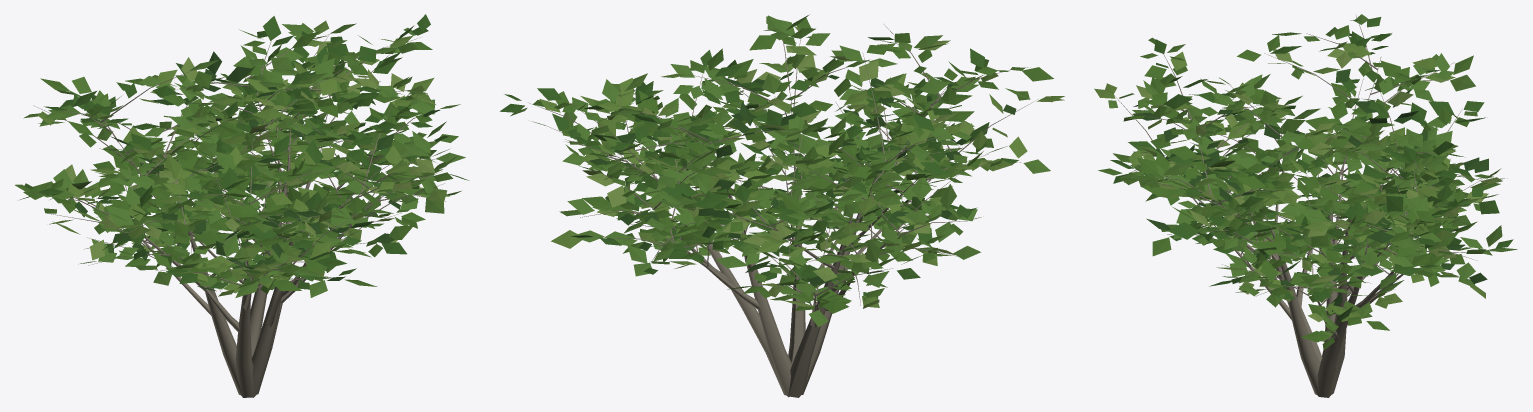
File: shrub_02.glb
3 views of the same model, side by side, from view 1: azimuth 30°, elevation 25°; view 2: azimuth 150°, elevation 25°; view 3: azimuth 270°, elevation 25° (orthographic). The views are drawn at different scales.
Visible parts, largest first — view 1: Shrub_02_foliage, Shrub_02_stems; view 2: Shrub_02_foliage, Shrub_02_stems; view 3: Shrub_02_foliage, Shrub_02_stems.
Boxes of the visible parts, box(x1,y1,x2,y2) form: Shrub_02_foliage: box(15, 14, 469, 297); Shrub_02_stems: box(31, 33, 445, 397); Shrub_02_foliage: box(500, 14, 1064, 327); Shrub_02_stems: box(528, 24, 1038, 397); Shrub_02_foliage: box(1094, 14, 1517, 349); Shrub_02_stems: box(1114, 15, 1492, 397).
Size of the model in its own units: 1.71 by 1.29 by 1.48.
